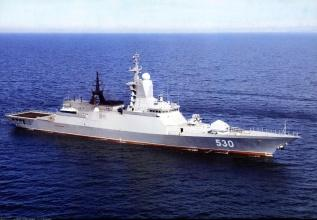warship: (5, 52, 301, 162)
